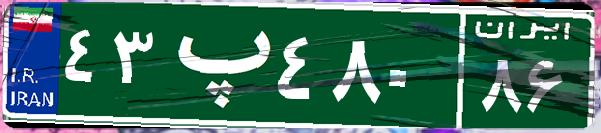0: (385, 28, 445, 110)
3: (110, 28, 158, 105)
4: (273, 28, 330, 110), (57, 26, 110, 107)
6: (525, 38, 570, 115)
8: (330, 28, 385, 110), (475, 38, 525, 113)
پ: (158, 15, 273, 115)
